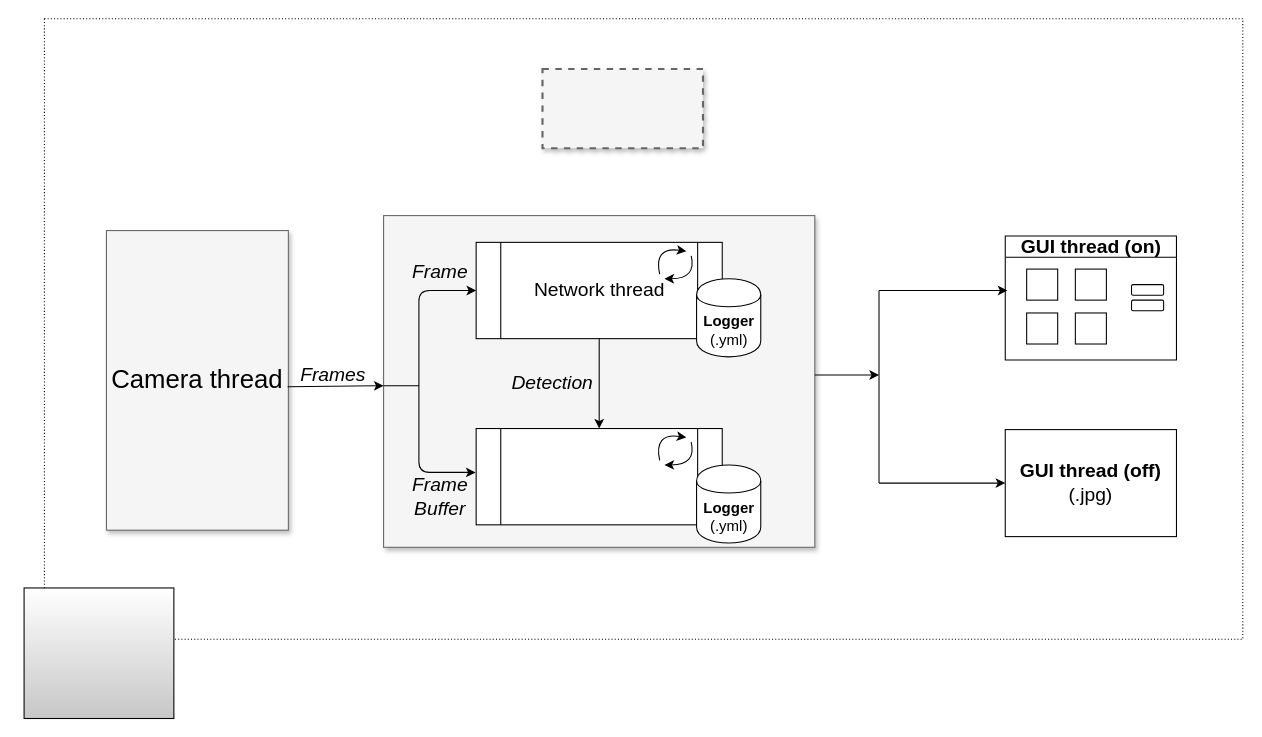
This 1262x737 diagram has some shape labels left out. The centre of each missing label's shape, as x and y in pixels:
Configuration file (.yml): (x=98, y=653)
dl-objecttracker: (x=623, y=109)
Tracker thread: (x=598, y=476)
